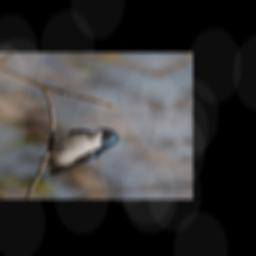Swallow: (29, 125, 129, 176)
